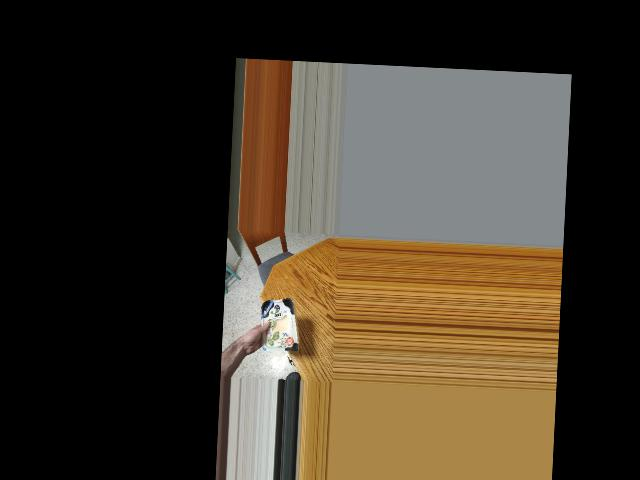cheese: (253, 297, 300, 352)
